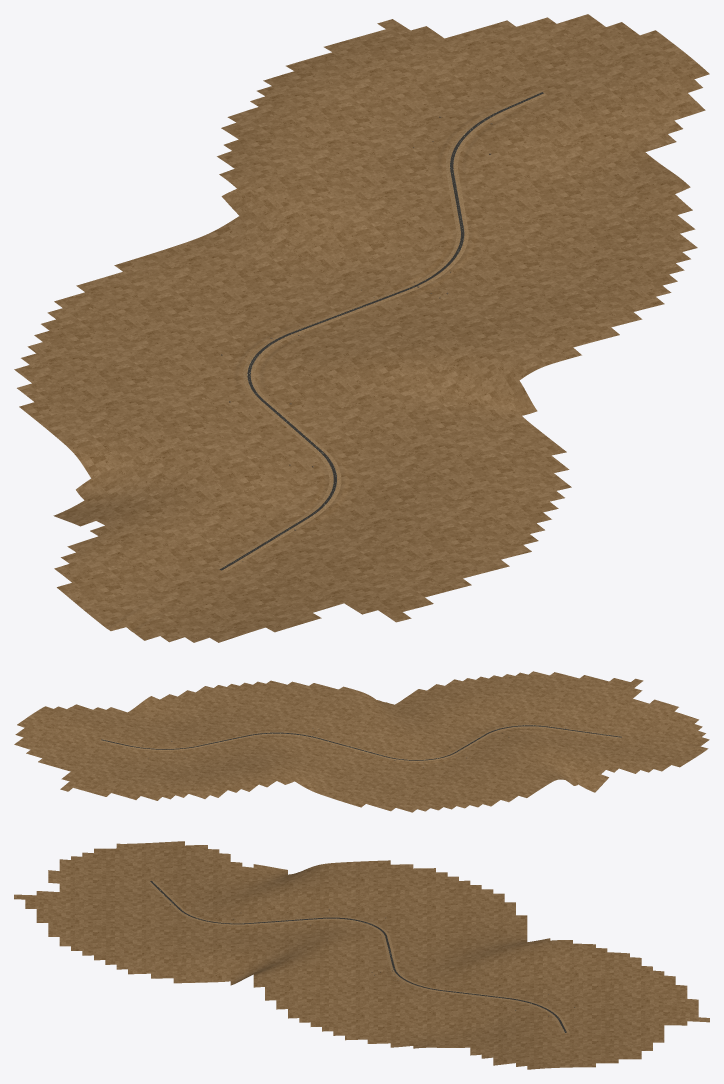
3 renders of one model, top to bottom at view 1: azimuth 30°, elevation 25°; view 2: azimuth 150°, elevation 25°; view 3: azimuth 270°, elevation 25°, orthographic. The views are drawn at different scales.
Visible parts, largest first — view 1: S07_TERRAIN_LOD0_WEB_EXPORT, V2_LANDFORM_S07_CUT_FILL_LEFT_WEB_EXPORT, V2_LANDFORM_S07_CUT_FILL_RIGHT_WEB_EXPORT, S07_ROAD_ASPHALT_LOD0_WEB_EXPORT; view 2: S07_TERRAIN_LOD0_WEB_EXPORT, V2_LANDFORM_S07_CUT_FILL_RIGHT_WEB_EXPORT, S07_ROAD_ASPHALT_LOD0_WEB_EXPORT, V2_LANDFORM_S07_CUT_FILL_LEFT_WEB_EXPORT; view 3: S07_TERRAIN_LOD0_WEB_EXPORT, V2_LANDFORM_S07_CUT_FILL_LEFT_WEB_EXPORT, V2_LANDFORM_S07_CUT_FILL_RIGHT_WEB_EXPORT, S07_ROAD_ASPHALT_LOD0_WEB_EXPORT.
Boxes of the visible parts, <box> form: S07_TERRAIN_LOD0_WEB_EXPORT: <box>14,14,709,642</box>; V2_LANDFORM_S07_CUT_FILL_LEFT_WEB_EXPORT: <box>222,93,546,571</box>; V2_LANDFORM_S07_CUT_FILL_RIGHT_WEB_EXPORT: <box>216,91,541,569</box>; S07_ROAD_ASPHALT_LOD0_WEB_EXPORT: <box>219,92,543,570</box>; S07_TERRAIN_LOD0_WEB_EXPORT: <box>14,671,709,812</box>; V2_LANDFORM_S07_CUT_FILL_RIGHT_WEB_EXPORT: <box>100,726,621,761</box>; S07_ROAD_ASPHALT_LOD0_WEB_EXPORT: <box>101,725,621,760</box>; V2_LANDFORM_S07_CUT_FILL_LEFT_WEB_EXPORT: <box>102,724,621,759</box>; S07_TERRAIN_LOD0_WEB_EXPORT: <box>14,841,709,1069</box>; V2_LANDFORM_S07_CUT_FILL_LEFT_WEB_EXPORT: <box>147,881,564,1033</box>; V2_LANDFORM_S07_CUT_FILL_RIGHT_WEB_EXPORT: <box>152,880,569,1032</box>; S07_ROAD_ASPHALT_LOD0_WEB_EXPORT: <box>150,881,566,1032</box>.
Bounding box in the file's own units: 2360 × 244 × 2440.
12 materials, 9 textured.
